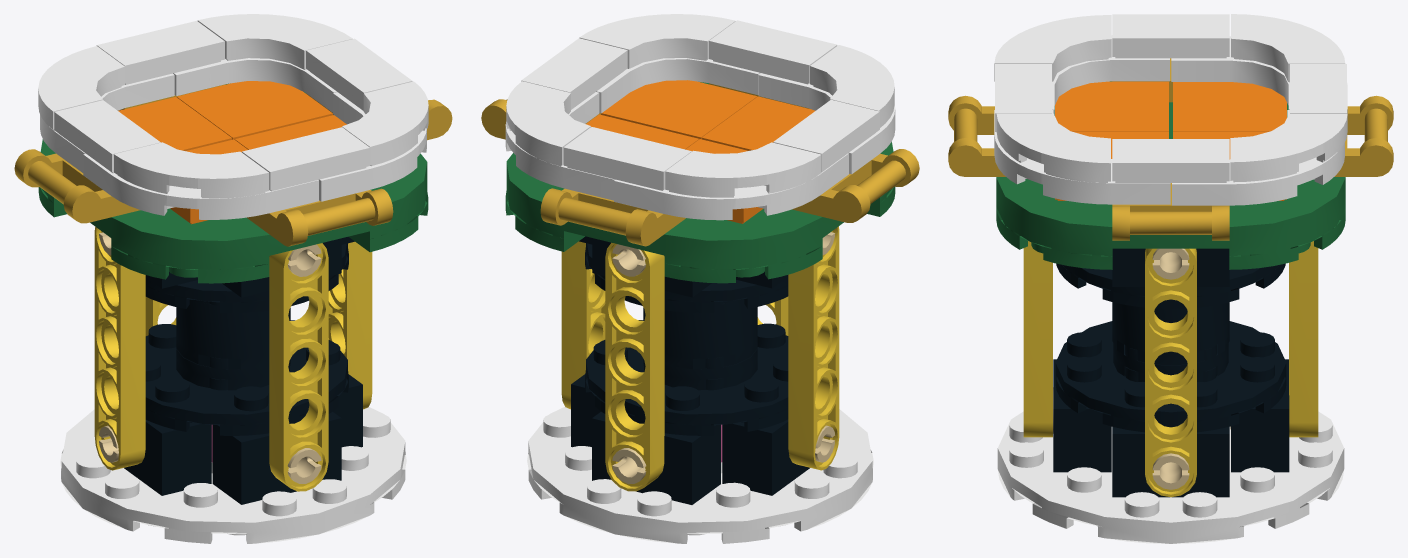
3 views of the same model, side by side, from view 1: azimuth 30°, elevation 25°; view 2: azimuth 150°, elevation 25°; view 3: azimuth 270°, elevation 25° (orthographic).
Parts seen in each view (by area): view 1: Inner-Node-basePS_dot_io-0.001, Inner-Node-basePS_dot_io-29.001, Inner-Node-basePS_dot_io-25.001, Inner-Node-basePS_dot_io-28.001, Inner-Node-basePS_dot_io-19.001, Inner-Node-basePS_dot_io-47.001, Inner-Node-basePS_dot_io-31.001, Inner-Node-basePS_dot_io-40.001, Inner-Node-basePS_dot_io-21.001, Inner-Node-basePS_dot_io-49.001, Inner-Node-basePS_dot_io-2.001, Inner-Node-basePS_dot_io-27.001 (+23 smaller); view 2: Inner-Node-basePS_dot_io-0.001, Inner-Node-basePS_dot_io-29.001, Inner-Node-basePS_dot_io-26.001, Inner-Node-basePS_dot_io-28.001, Inner-Node-basePS_dot_io-19.001, Inner-Node-basePS_dot_io-48.001, Inner-Node-basePS_dot_io-32.001, Inner-Node-basePS_dot_io-41.001, Inner-Node-basePS_dot_io-21.001, Inner-Node-basePS_dot_io-46.001, Inner-Node-basePS_dot_io-3.001, Inner-Node-basePS_dot_io-27.001 (+23 smaller); view 3: Inner-Node-basePS_dot_io-0.001, Inner-Node-basePS_dot_io-29.001, Inner-Node-basePS_dot_io-19.001, Inner-Node-basePS_dot_io-27.001, Inner-Node-basePS_dot_io-25.001, Inner-Node-basePS_dot_io-26.001, Inner-Node-basePS_dot_io-49.001, Inner-Node-basePS_dot_io-46.001, Inner-Node-basePS_dot_io-33.001, Inner-Node-basePS_dot_io-30.001, Inner-Node-basePS_dot_io-45.001, Inner-Node-basePS_dot_io-44.001 (+22 smaller).
Boxes of the visible parts, x1,y1,x2,y2 form: Inner-Node-basePS_dot_io-0.001: [60, 407, 406, 543]; Inner-Node-basePS_dot_io-29.001: [38, 83, 428, 283]; Inner-Node-basePS_dot_io-25.001: [269, 243, 328, 491]; Inner-Node-basePS_dot_io-28.001: [94, 227, 145, 470]; Inner-Node-basePS_dot_io-19.001: [145, 320, 348, 435]; Inner-Node-basePS_dot_io-47.001: [114, 142, 269, 198]; Inner-Node-basePS_dot_io-31.001: [177, 81, 332, 139]; Inner-Node-basePS_dot_io-40.001: [83, 154, 318, 219]; Inner-Node-basePS_dot_io-21.001: [176, 300, 290, 369]; Inner-Node-basePS_dot_io-49.001: [197, 14, 352, 69]; Inner-Node-basePS_dot_io-2.001: [212, 412, 341, 504]; Inner-Node-basePS_dot_io-27.001: [328, 241, 372, 409]; Inner-Node-basePS_dot_io-0.001: [527, 407, 873, 543]; Inner-Node-basePS_dot_io-29.001: [505, 82, 895, 283]; Inner-Node-basePS_dot_io-26.001: [605, 242, 664, 491]; Inner-Node-basePS_dot_io-28.001: [788, 226, 839, 470]; Inner-Node-basePS_dot_io-19.001: [585, 320, 788, 435]; Inner-Node-basePS_dot_io-48.001: [665, 142, 821, 197]; Inner-Node-basePS_dot_io-32.001: [601, 80, 757, 139]; Inner-Node-basePS_dot_io-41.001: [614, 153, 848, 220]; Inner-Node-basePS_dot_io-21.001: [643, 299, 757, 369]; Inner-Node-basePS_dot_io-46.001: [579, 14, 735, 68]; Inner-Node-basePS_dot_io-3.001: [592, 411, 720, 504]; Inner-Node-basePS_dot_io-27.001: [561, 241, 605, 409]; Inner-Node-basePS_dot_io-0.001: [997, 411, 1344, 543]; Inner-Node-basePS_dot_io-29.001: [996, 81, 1345, 269]; Inner-Node-basePS_dot_io-19.001: [1055, 321, 1286, 432]; Inner-Node-basePS_dot_io-27.001: [1145, 248, 1196, 497]; Inner-Node-basePS_dot_io-25.001: [1023, 241, 1052, 437]; Inner-Node-basePS_dot_io-26.001: [1289, 241, 1318, 437]; Inner-Node-basePS_dot_io-49.001: [1230, 114, 1347, 182]; Inner-Node-basePS_dot_io-46.001: [996, 113, 1110, 182]; Inner-Node-basePS_dot_io-33.001: [1055, 81, 1168, 131]; Inner-Node-basePS_dot_io-30.001: [1173, 82, 1286, 131]; Inner-Node-basePS_dot_io-45.001: [1112, 14, 1229, 58]; Inner-Node-basePS_dot_io-44.001: [1112, 139, 1229, 182].
Bounding box in the file's own units: 6.04 × 5.7 × 6.04.
